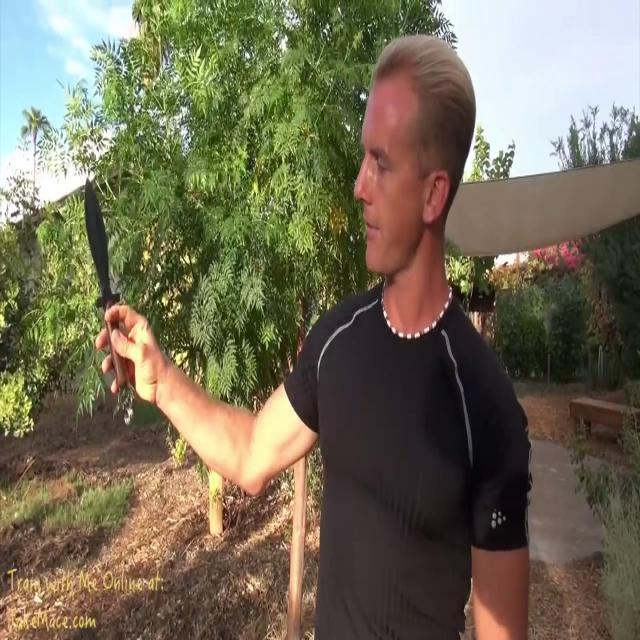knife: (80, 162, 140, 426)
